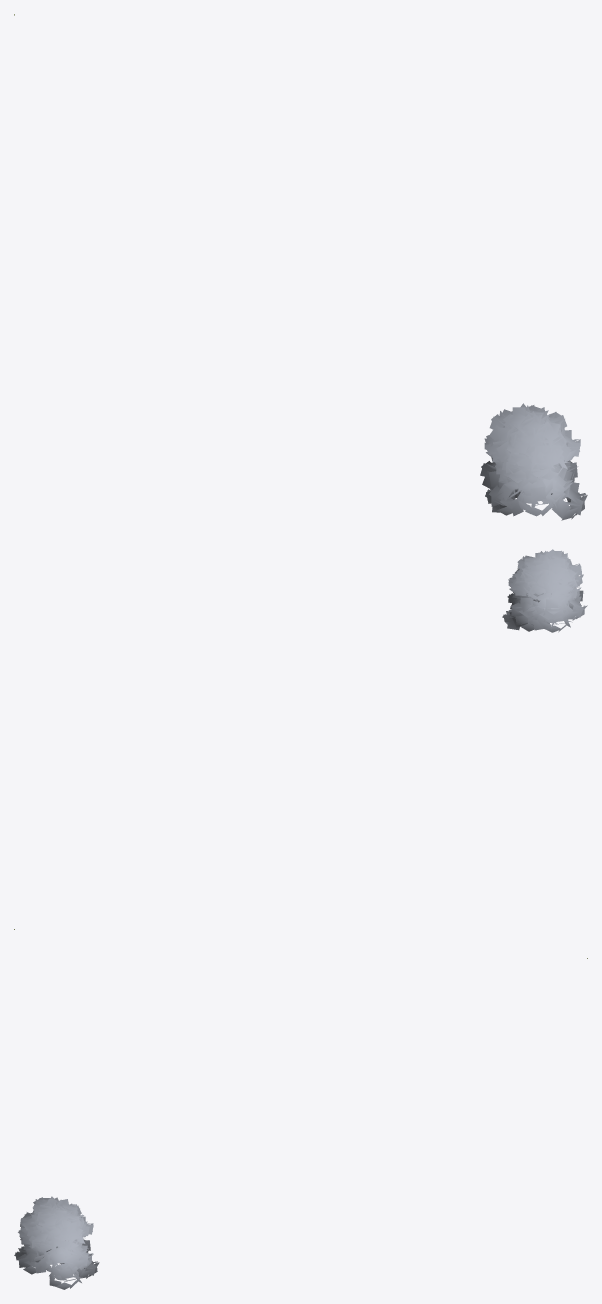
File: tree.glb
3 views of the same model, one above another, from view 1: azimuth 30°, elevation 25°; view 2: azimuth 150°, elevation 25°; view 3: azimuth 330°, elevation 25° (orthographic). The views are drawn at different scales.
Parts seen in each view (by area): view 1: 高树_157_1413; view 2: 高树_157_1413; view 3: 高树_157_1413.
Boxes of the visible parts, left/top/right/bottom form: 高树_157_1413: left=480, top=403, right=587, bottom=520; 高树_157_1413: left=502, top=549, right=587, bottom=632; 高树_157_1413: left=14, top=1196, right=99, bottom=1289.
Bounding box in the file's own units: 215 × 144 × 1544.
Materials: 2 (1 with a texture image).
